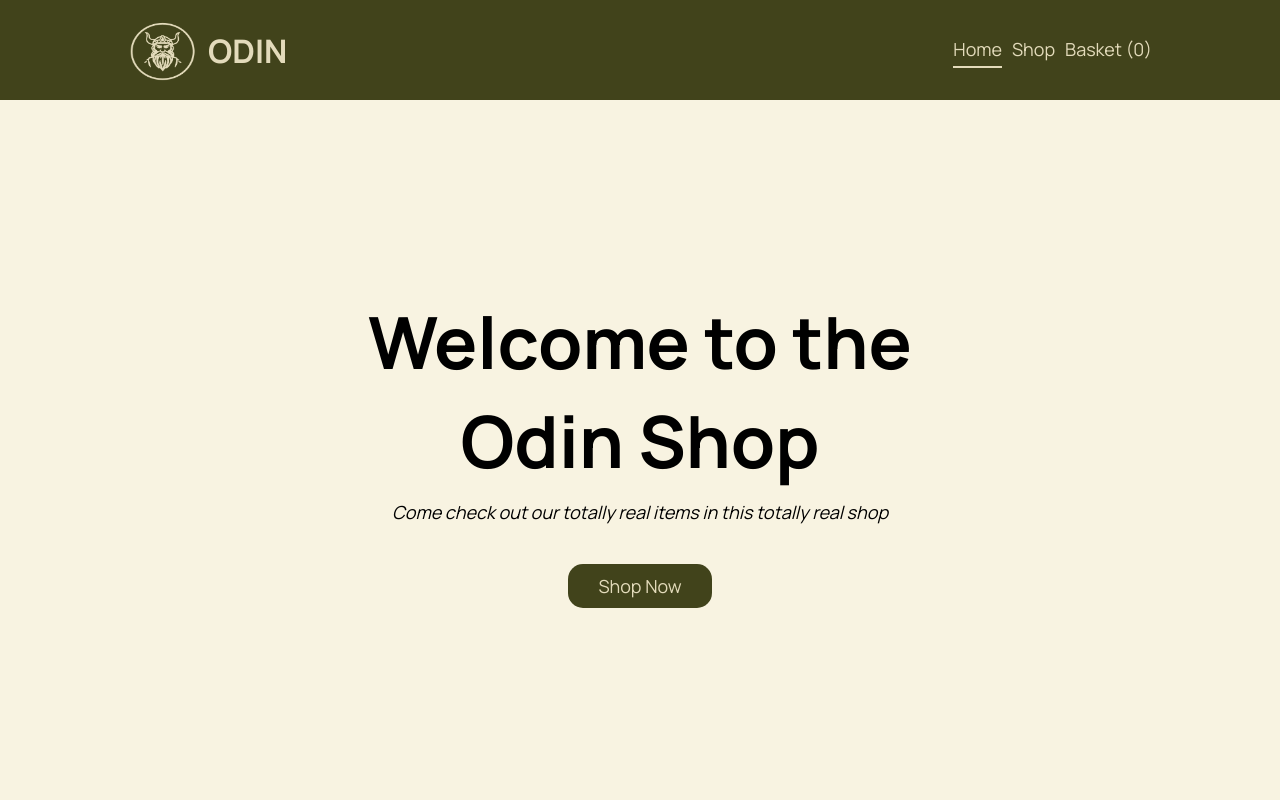
it: Header › basket link takes you to basket
Click the link "Basket (0)": (1109, 52) 1065,37 -> 1152,68
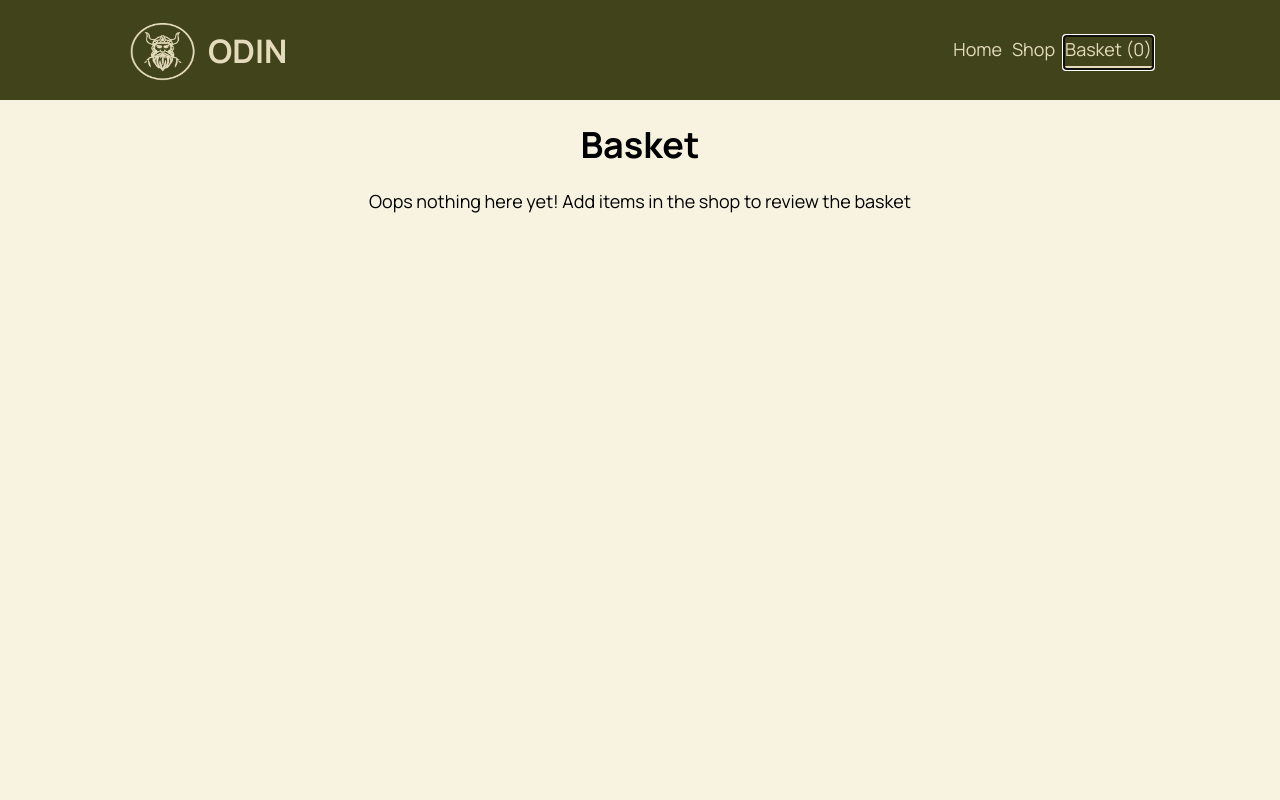
Expected: the heading "Basket" is shown, 580,120 -> 700,169
